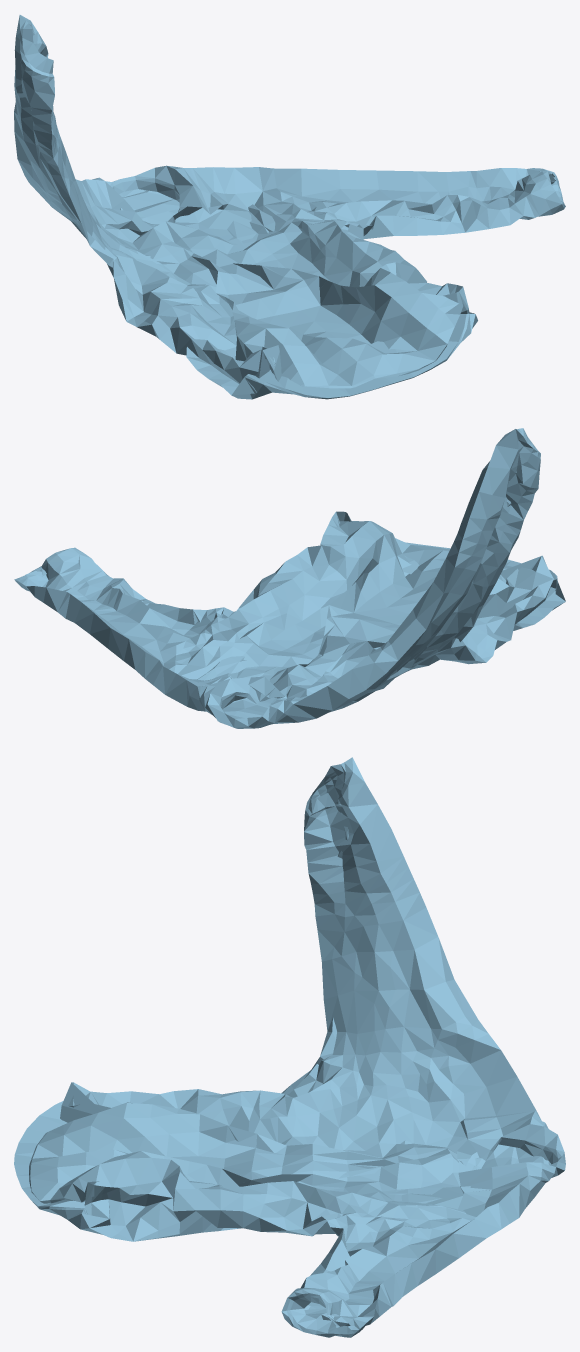
Rendered from frame_08.glb.
3 views of the same model, one above another, from view 1: azimuth 30°, elevation 25°; view 2: azimuth 150°, elevation 25°; view 3: azimuth 270°, elevation 25° (orthographic). The views are drawn at different scales.
Visible parts, largest first — view 1: frame_08.obj; view 2: frame_08.obj; view 3: frame_08.obj.
Boxes of the visible parts, left/top/right/bottom form: frame_08.obj: left=14, top=15, right=565, bottom=399; frame_08.obj: left=14, top=428, right=565, bottom=728; frame_08.obj: left=14, top=757, right=565, bottom=1337.
Bounding box in the file's own units: 1.64 × 0.9224 × 1.38.
